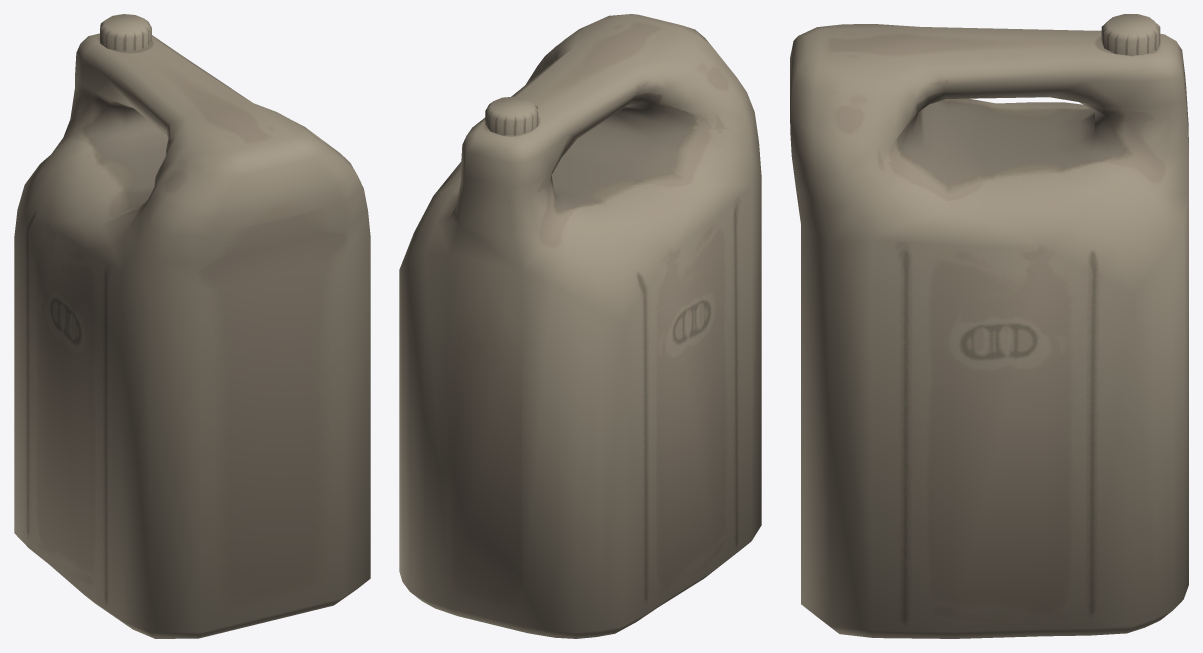
File: SM_plastic_canister.glb
3 views of the same model, side by side, from view 1: azimuth 30°, elevation 25°; view 2: azimuth 150°, elevation 25°; view 3: azimuth 270°, elevation 25° (orthographic). The views are drawn at different scales.
Visible parts, largest first — view 1: SM_plastic_canister; view 2: SM_plastic_canister; view 3: SM_plastic_canister.
Boxes of the visible parts, <box> form: SM_plastic_canister: <box>14,14,370,638</box>; SM_plastic_canister: <box>399,14,761,638</box>; SM_plastic_canister: <box>790,14,1188,638</box>.
Bounding box in the file's own units: 0.3237 × 0.6342 × 0.4128.
1 material, 1 textured.
